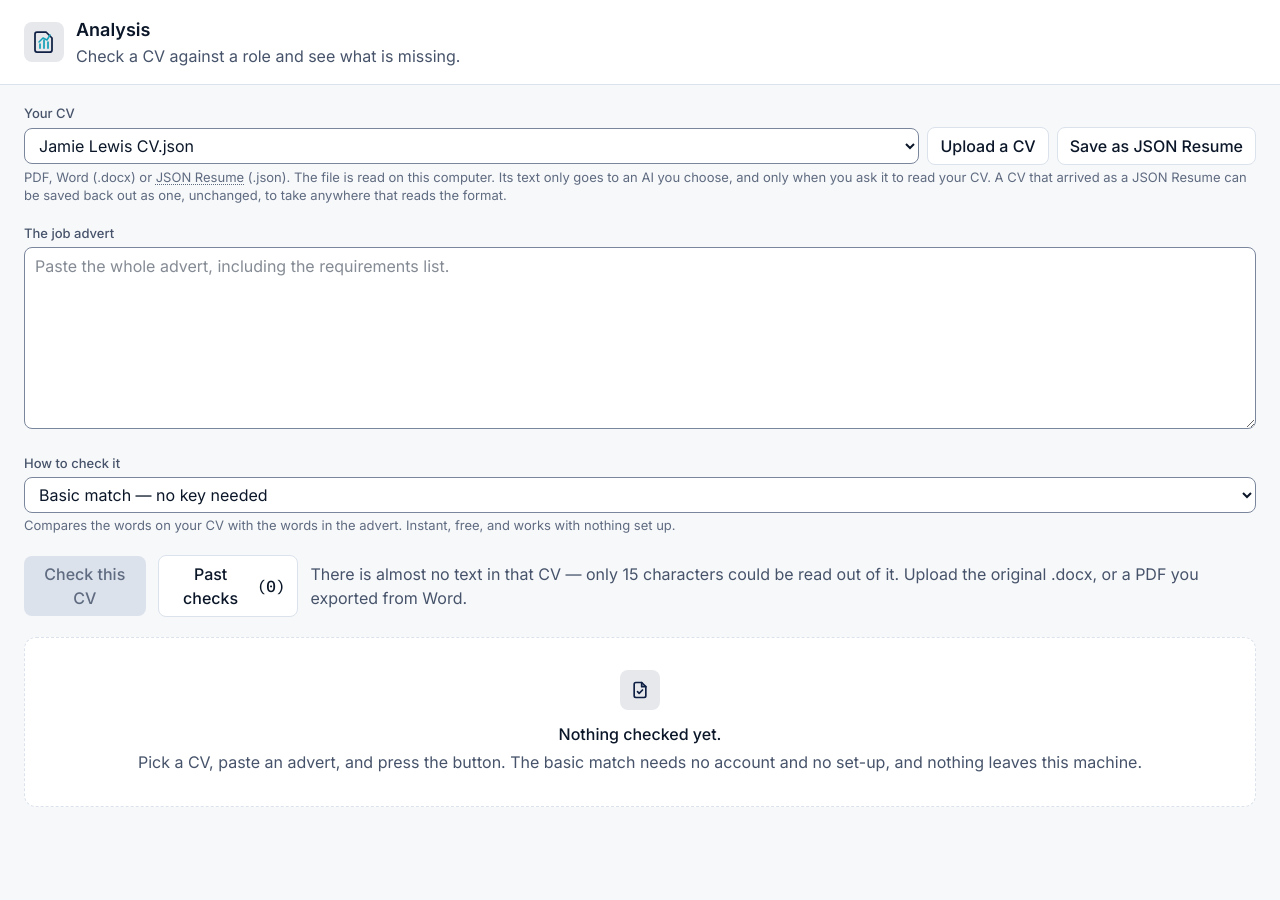
Test case: Save as JSON Resume › negative: a refused save is shown as an error, in the writer’s own words
Check: the dropdown with test id "analysis-provider" is shown, box x1=24 y1=477 x2=1256 y2=513
Click the button with test id "analysis-save-json" at (1156, 146), box x1=1057 y1=127 x2=1256 y2=165
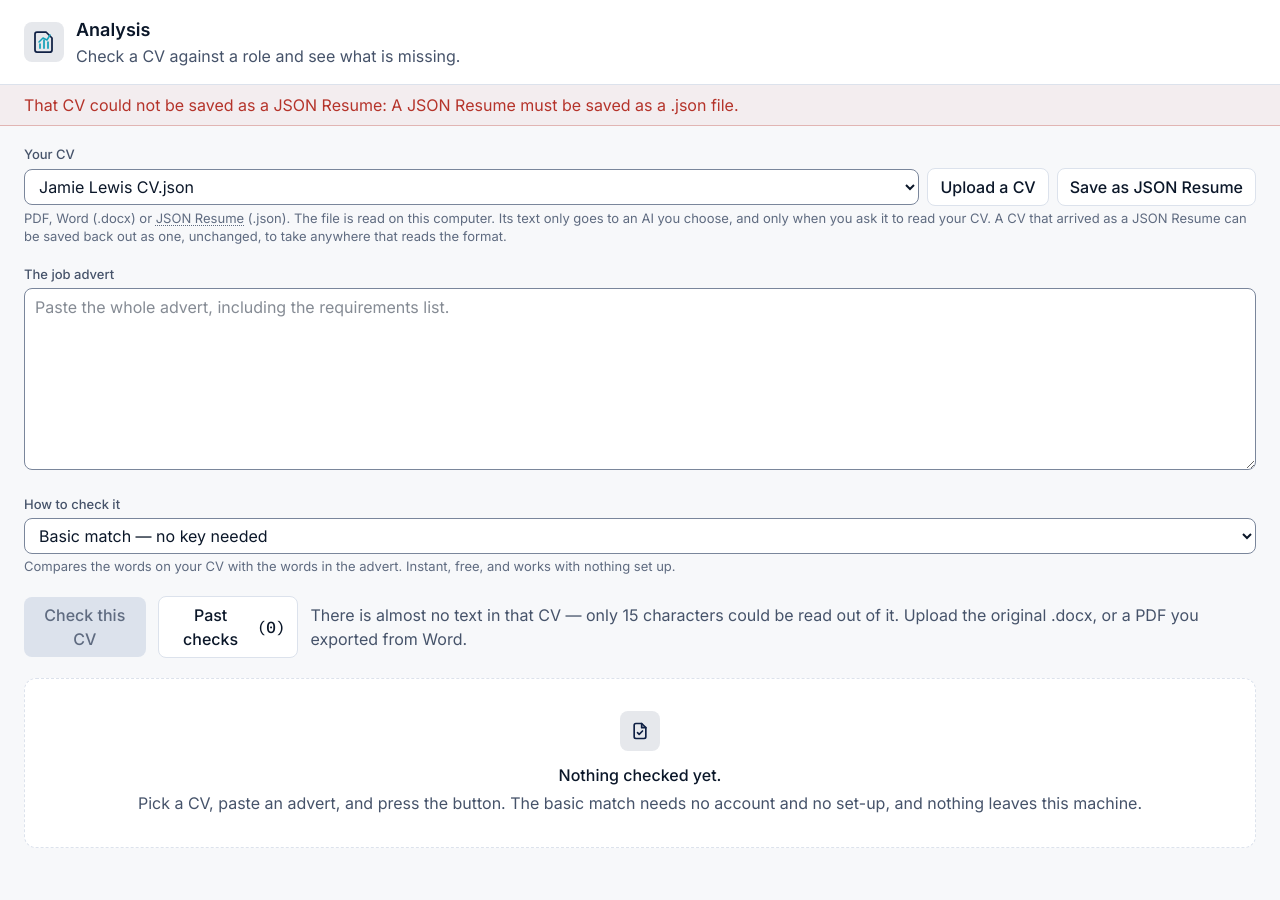
Check: the message with test id "analysis-error" shows "A JSON Resume must be saved as a .json file.", box x1=24 y1=95 x2=738 y2=115
